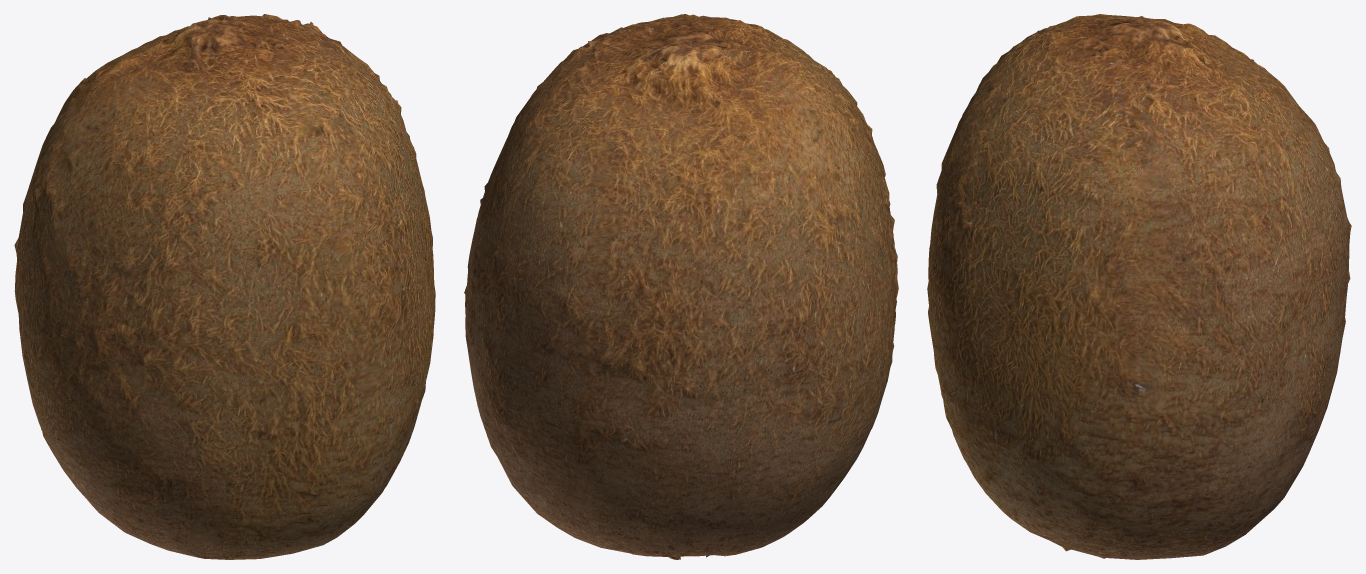
The model's file is kiwi.glb.
3 views of the same model, side by side, from view 1: azimuth 30°, elevation 25°; view 2: azimuth 150°, elevation 25°; view 3: azimuth 270°, elevation 25° (orthographic).
Visible parts, largest first — view 1: kiwi; view 2: kiwi; view 3: kiwi.
Part boxes in pixels (x1=…): kiwi: x1=14, y1=14, x2=435, y2=559; kiwi: x1=464, y1=14, x2=898, y2=559; kiwi: x1=927, y1=14, x2=1351, y2=559.
Size of the model in its own units: 0.7719 by 1 by 0.762.
Materials: 1 (1 with a texture image).
